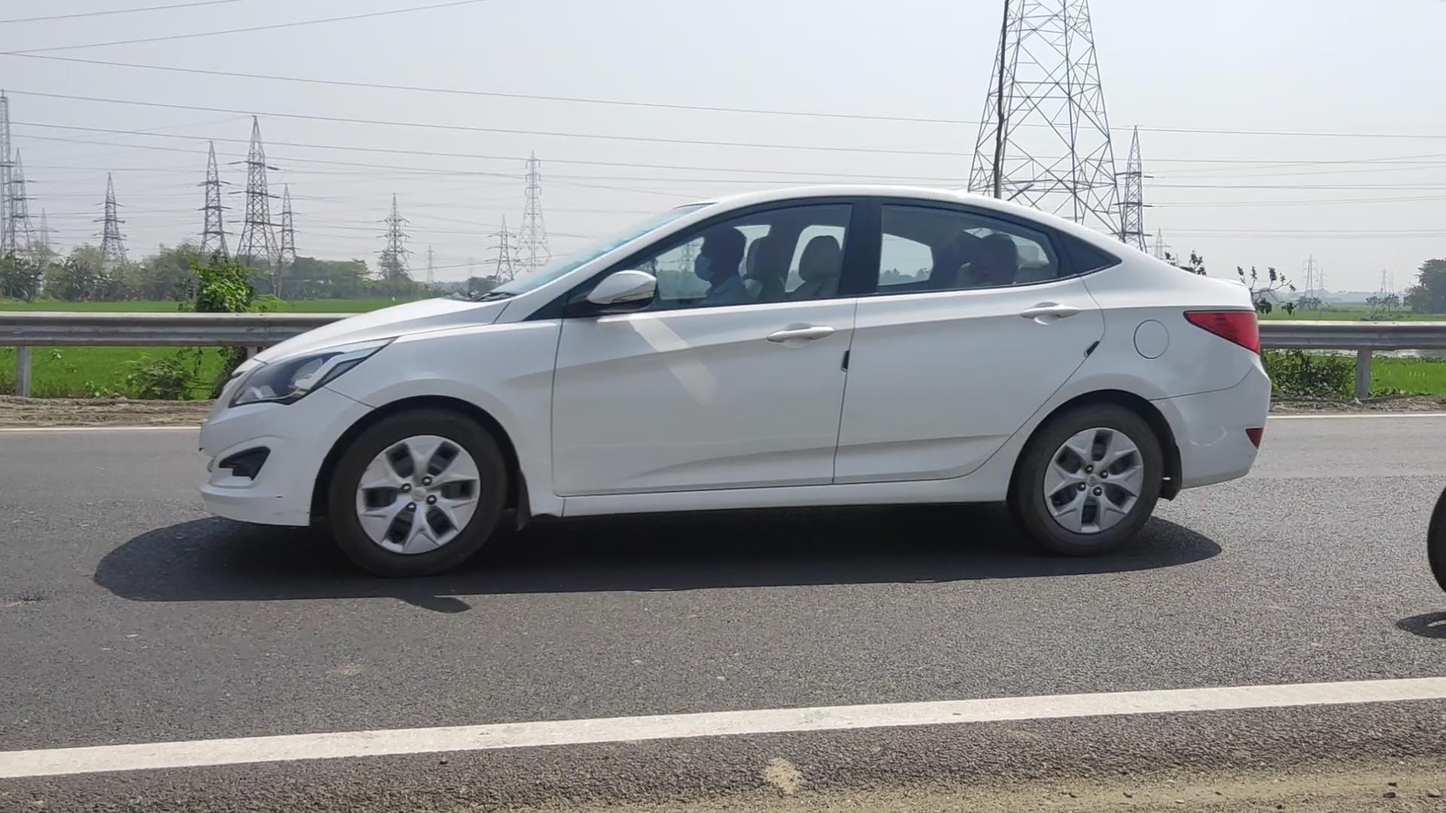car: (197, 182, 1271, 577)
